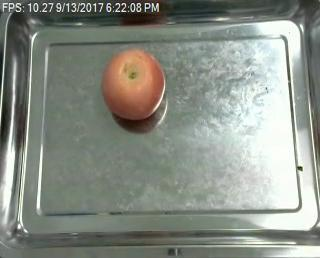apple: (101, 47, 163, 119)
